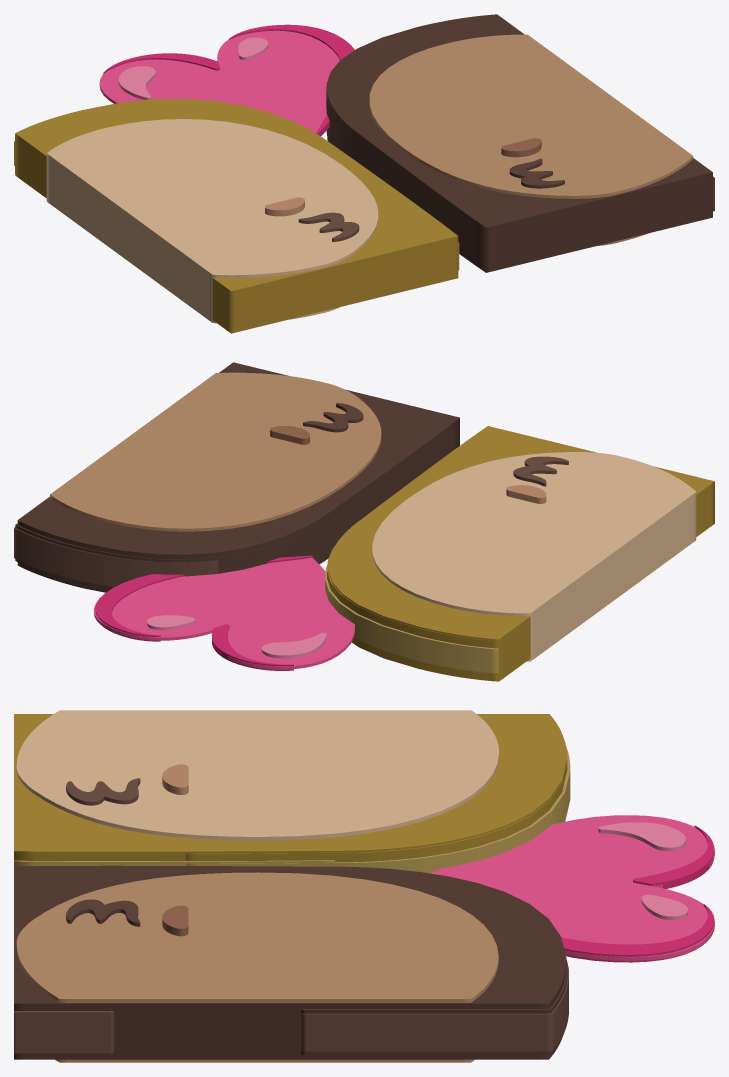
Rendered from emoji_u1f469_1f3fc_200d_2764_200d_1f48b_200d_1f469_1f3fd.glb.
3 renders of one model, top to bottom at view 1: azimuth 30°, elevation 25°; view 2: azimuth 150°, elevation 25°; view 3: azimuth 270°, elevation 25°, orthographic. The views are drawn at different scales.
Parts seen in each view (by area): view 1: emoji_u1f469_1f3fc_200d_2764_200d_1f48b_200d_1f469_1f3fd; view 2: emoji_u1f469_1f3fc_200d_2764_200d_1f48b_200d_1f469_1f3fd; view 3: emoji_u1f469_1f3fc_200d_2764_200d_1f48b_200d_1f469_1f3fd.
Part boxes in pixels (x1,y1,x2,y2): emoji_u1f469_1f3fc_200d_2764_200d_1f48b_200d_1f469_1f3fd: [14, 14, 714, 333]; emoji_u1f469_1f3fc_200d_2764_200d_1f48b_200d_1f469_1f3fd: [14, 362, 714, 681]; emoji_u1f469_1f3fc_200d_2764_200d_1f48b_200d_1f469_1f3fd: [14, 710, 714, 1062].
Size of the model in its own units: 0.0336 by 0.0042 by 0.0339.
